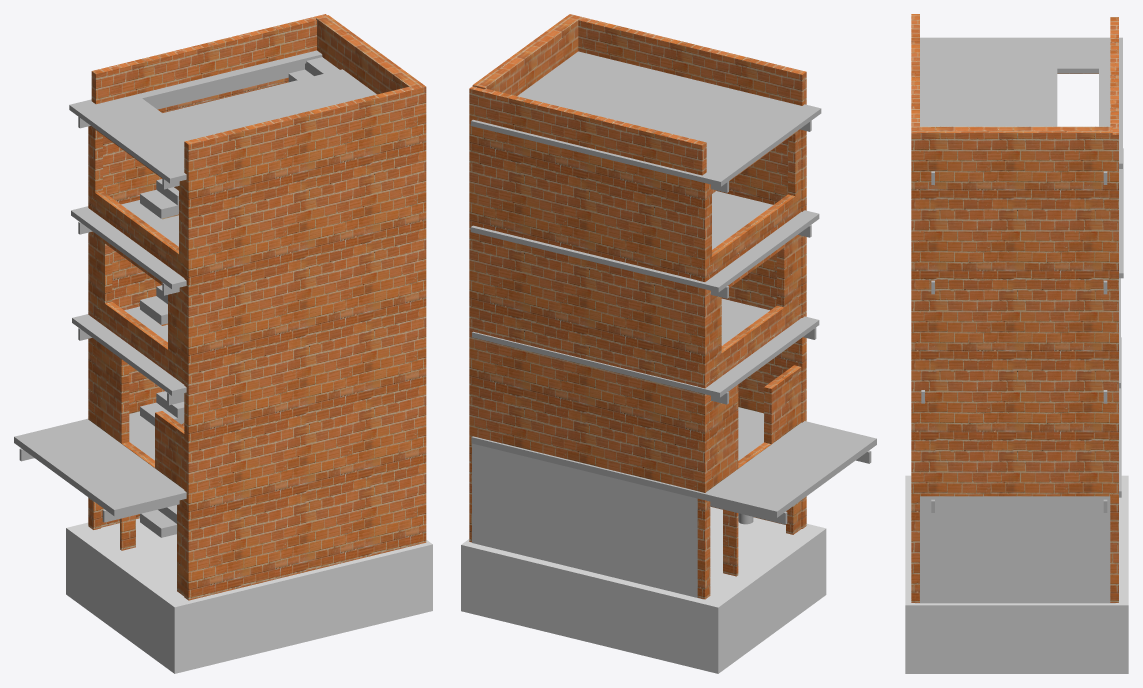
File: CASA 8.fbx
3 views of the same model, side by side, from view 1: azimuth 30°, elevation 25°; view 2: azimuth 150°, elevation 25°; view 3: azimuth 270°, elevation 25° (orthographic). The views are drawn at different scales.
Visible parts, largest first — view 1: Casa8_LOD0, Cube_LOD0; view 2: Casa8_LOD0, Cube_LOD0, OCC_Oclusion1; view 3: Casa8_LOD0, OCC_Oclusion2, Cube_LOD0.
Part boxes in pixels (box(x1,y1,x2,y2)): Casa8_LOD0: box(14, 14, 426, 600); Cube_LOD0: box(66, 518, 432, 673); Casa8_LOD0: box(469, 14, 876, 599); Cube_LOD0: box(461, 506, 826, 673); OCC_Oclusion1: box(472, 443, 703, 599); Casa8_LOD0: box(911, 14, 1123, 602); OCC_Oclusion2: box(915, 496, 1115, 603); Cube_LOD0: box(905, 475, 1128, 673).
Size of what is drawn, in the model's own units: 992 by 1571 by 591.
